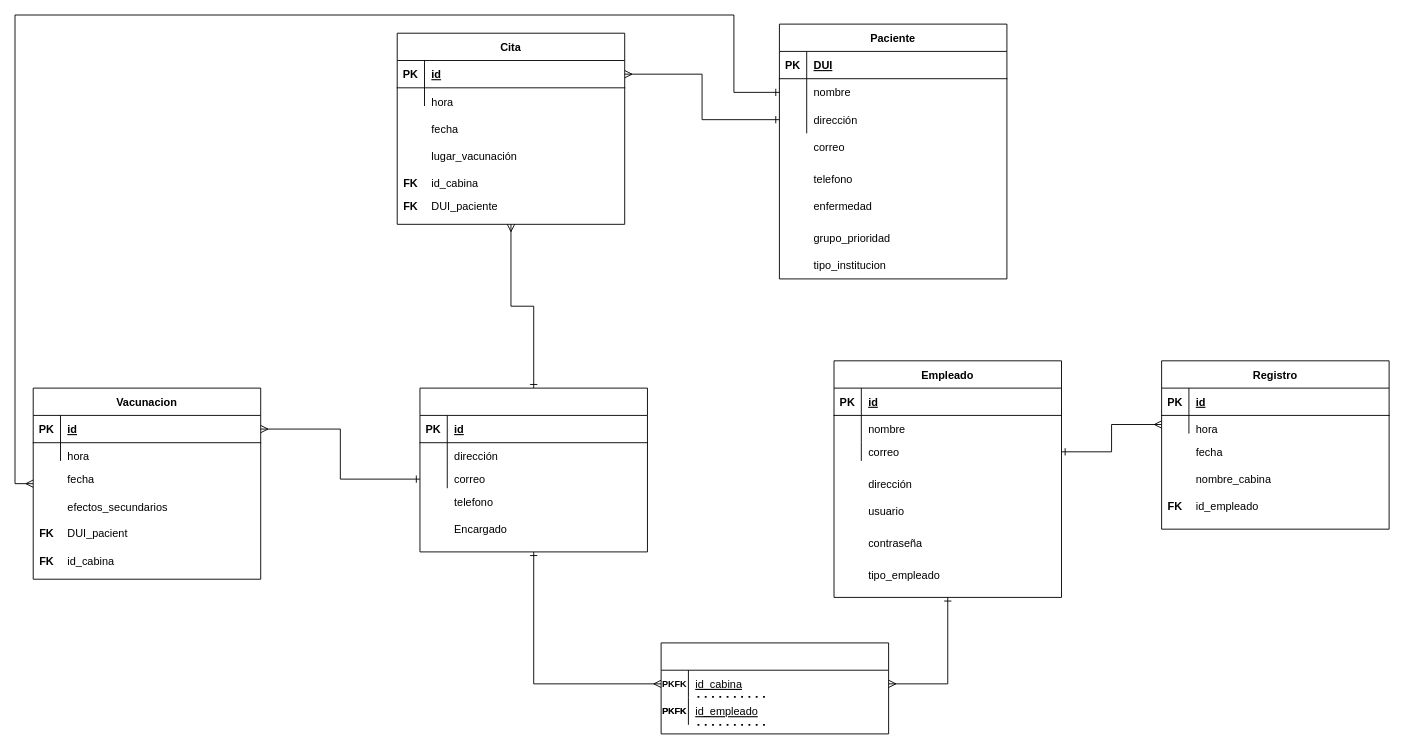
The diagram is 1404 pixels wide and 749 high, and some of its shapes have lost their labels. The shapes that lost their labels are listed below. From the top down, each one's box as (x1, y1, x2, y2) in pixels, then its label:
(419, 387, 647, 552): Cabina
(660, 642, 889, 734): CabinaxEmpleado
